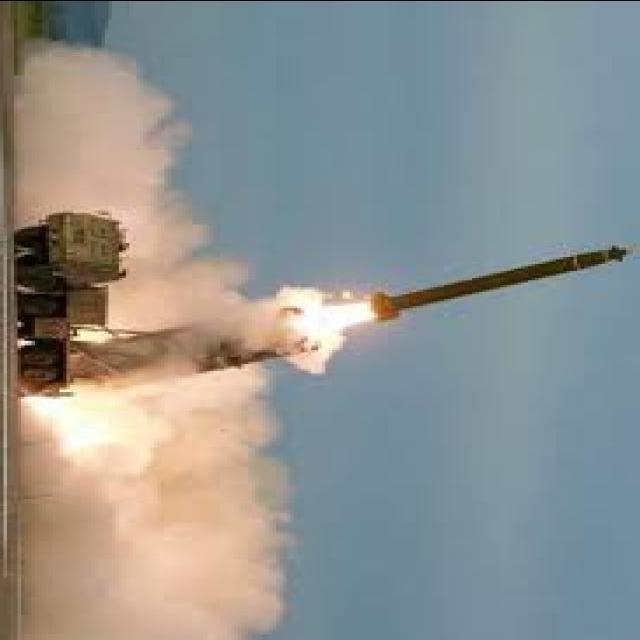missile: (367, 243, 633, 337)
